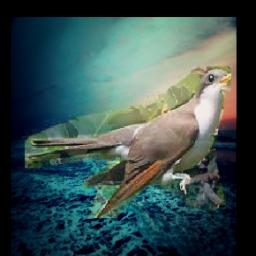Cuckoo: (25, 66, 231, 218)
